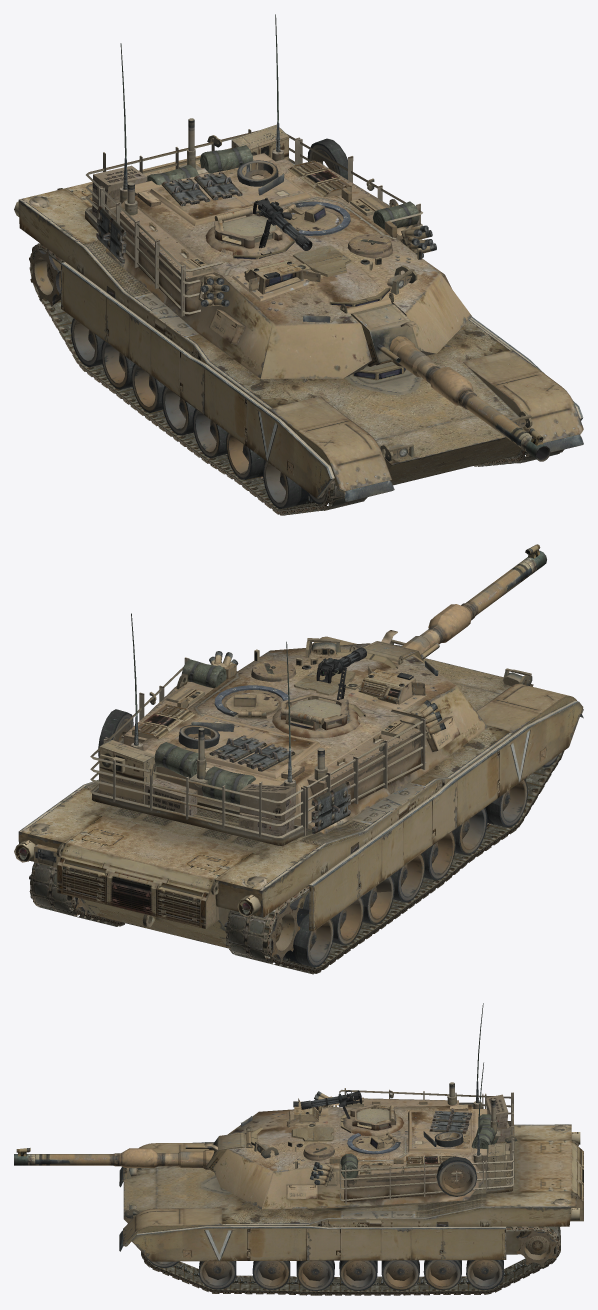
Rendered from MAX file.fbx.
3 views of the same model, one above another, from view 1: azimuth 30°, elevation 25°; view 2: azimuth 150°, elevation 25°; view 3: azimuth 270°, elevation 25° (orthographic). The views are drawn at different scales.
Parts seen in each view (by area): view 1: Main_Turret, Main_Body, Main_Wheels, Main_Barrel, Track, Main_Stuff, Main_Rotor, Minigun; view 2: Main_Body, Main_Turret, Main_Wheels, Track, Main_Stuff, Main_Barrel, Main_Rotor, Minigun; view 3: Main_Body, Main_Turret, Main_Wheels, Track, Main_Barrel, Main_Stuff, Main_Rotor, Minigun.
Boxes of the visible parts, bbox=[...] form: Main_Turret: bbox=[85, 14, 471, 378]; Main_Body: bbox=[14, 148, 583, 501]; Main_Wheels: bbox=[71, 318, 526, 508]; Main_Barrel: bbox=[351, 303, 550, 461]; Track: bbox=[29, 243, 564, 515]; Main_Stuff: bbox=[92, 145, 419, 229]; Main_Rotor: bbox=[29, 246, 60, 306]; Minigun: bbox=[253, 198, 312, 250]; Main_Body: bbox=[14, 636, 583, 948]; Main_Turret: bbox=[90, 613, 487, 845]; Main_Wheels: bbox=[88, 754, 559, 967]; Track: bbox=[29, 751, 564, 974]; Main_Stuff: bbox=[144, 659, 295, 836]; Main_Barrel: bbox=[362, 544, 546, 662]; Main_Rotor: bbox=[29, 874, 300, 962]; Minigun: bbox=[316, 647, 366, 683]; Main_Body: bbox=[119, 1124, 583, 1261]; Main_Turret: bbox=[212, 1003, 517, 1210]; Main_Wheels: bbox=[148, 1259, 503, 1291]; Track: bbox=[141, 1226, 560, 1295]; Main_Barrel: bbox=[14, 1132, 246, 1171]; Main_Stuff: bbox=[340, 1094, 510, 1178]; Main_Rotor: bbox=[516, 1229, 558, 1266]; Minigun: bbox=[300, 1090, 362, 1109].
Bounding box in the file's own units: 252 × 308 × 709.
